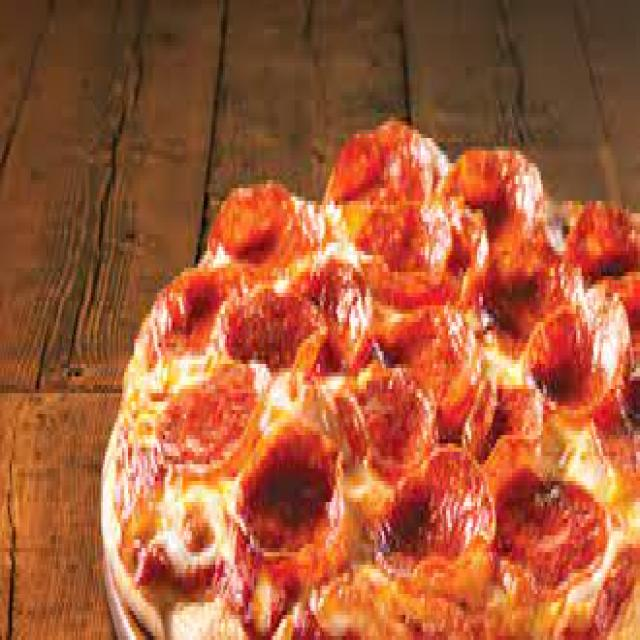Pizza: (174, 212, 640, 640)
